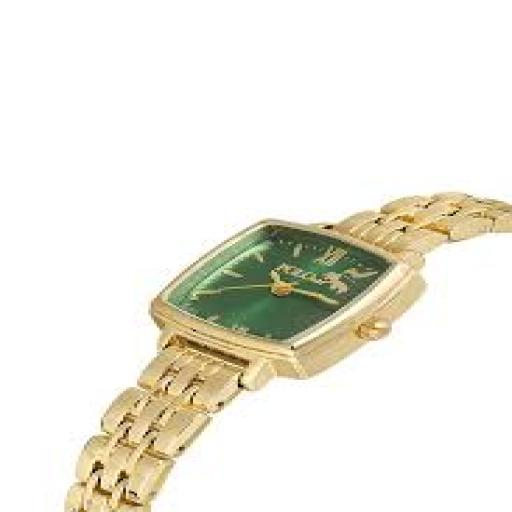KolSaati: (62, 126, 484, 478)
